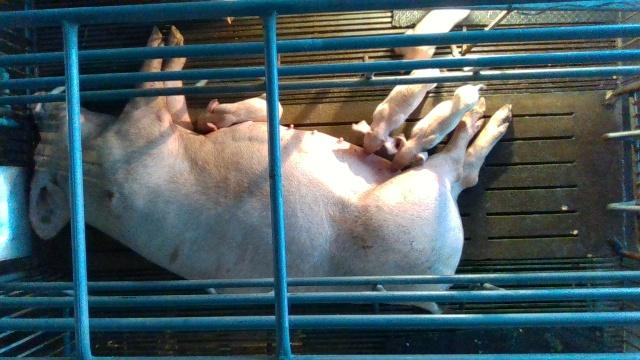piglet: (389, 84, 488, 173), (351, 69, 441, 157), (395, 9, 470, 61), (197, 94, 283, 131)
sow-sleep-lactate: (31, 27, 513, 314)
